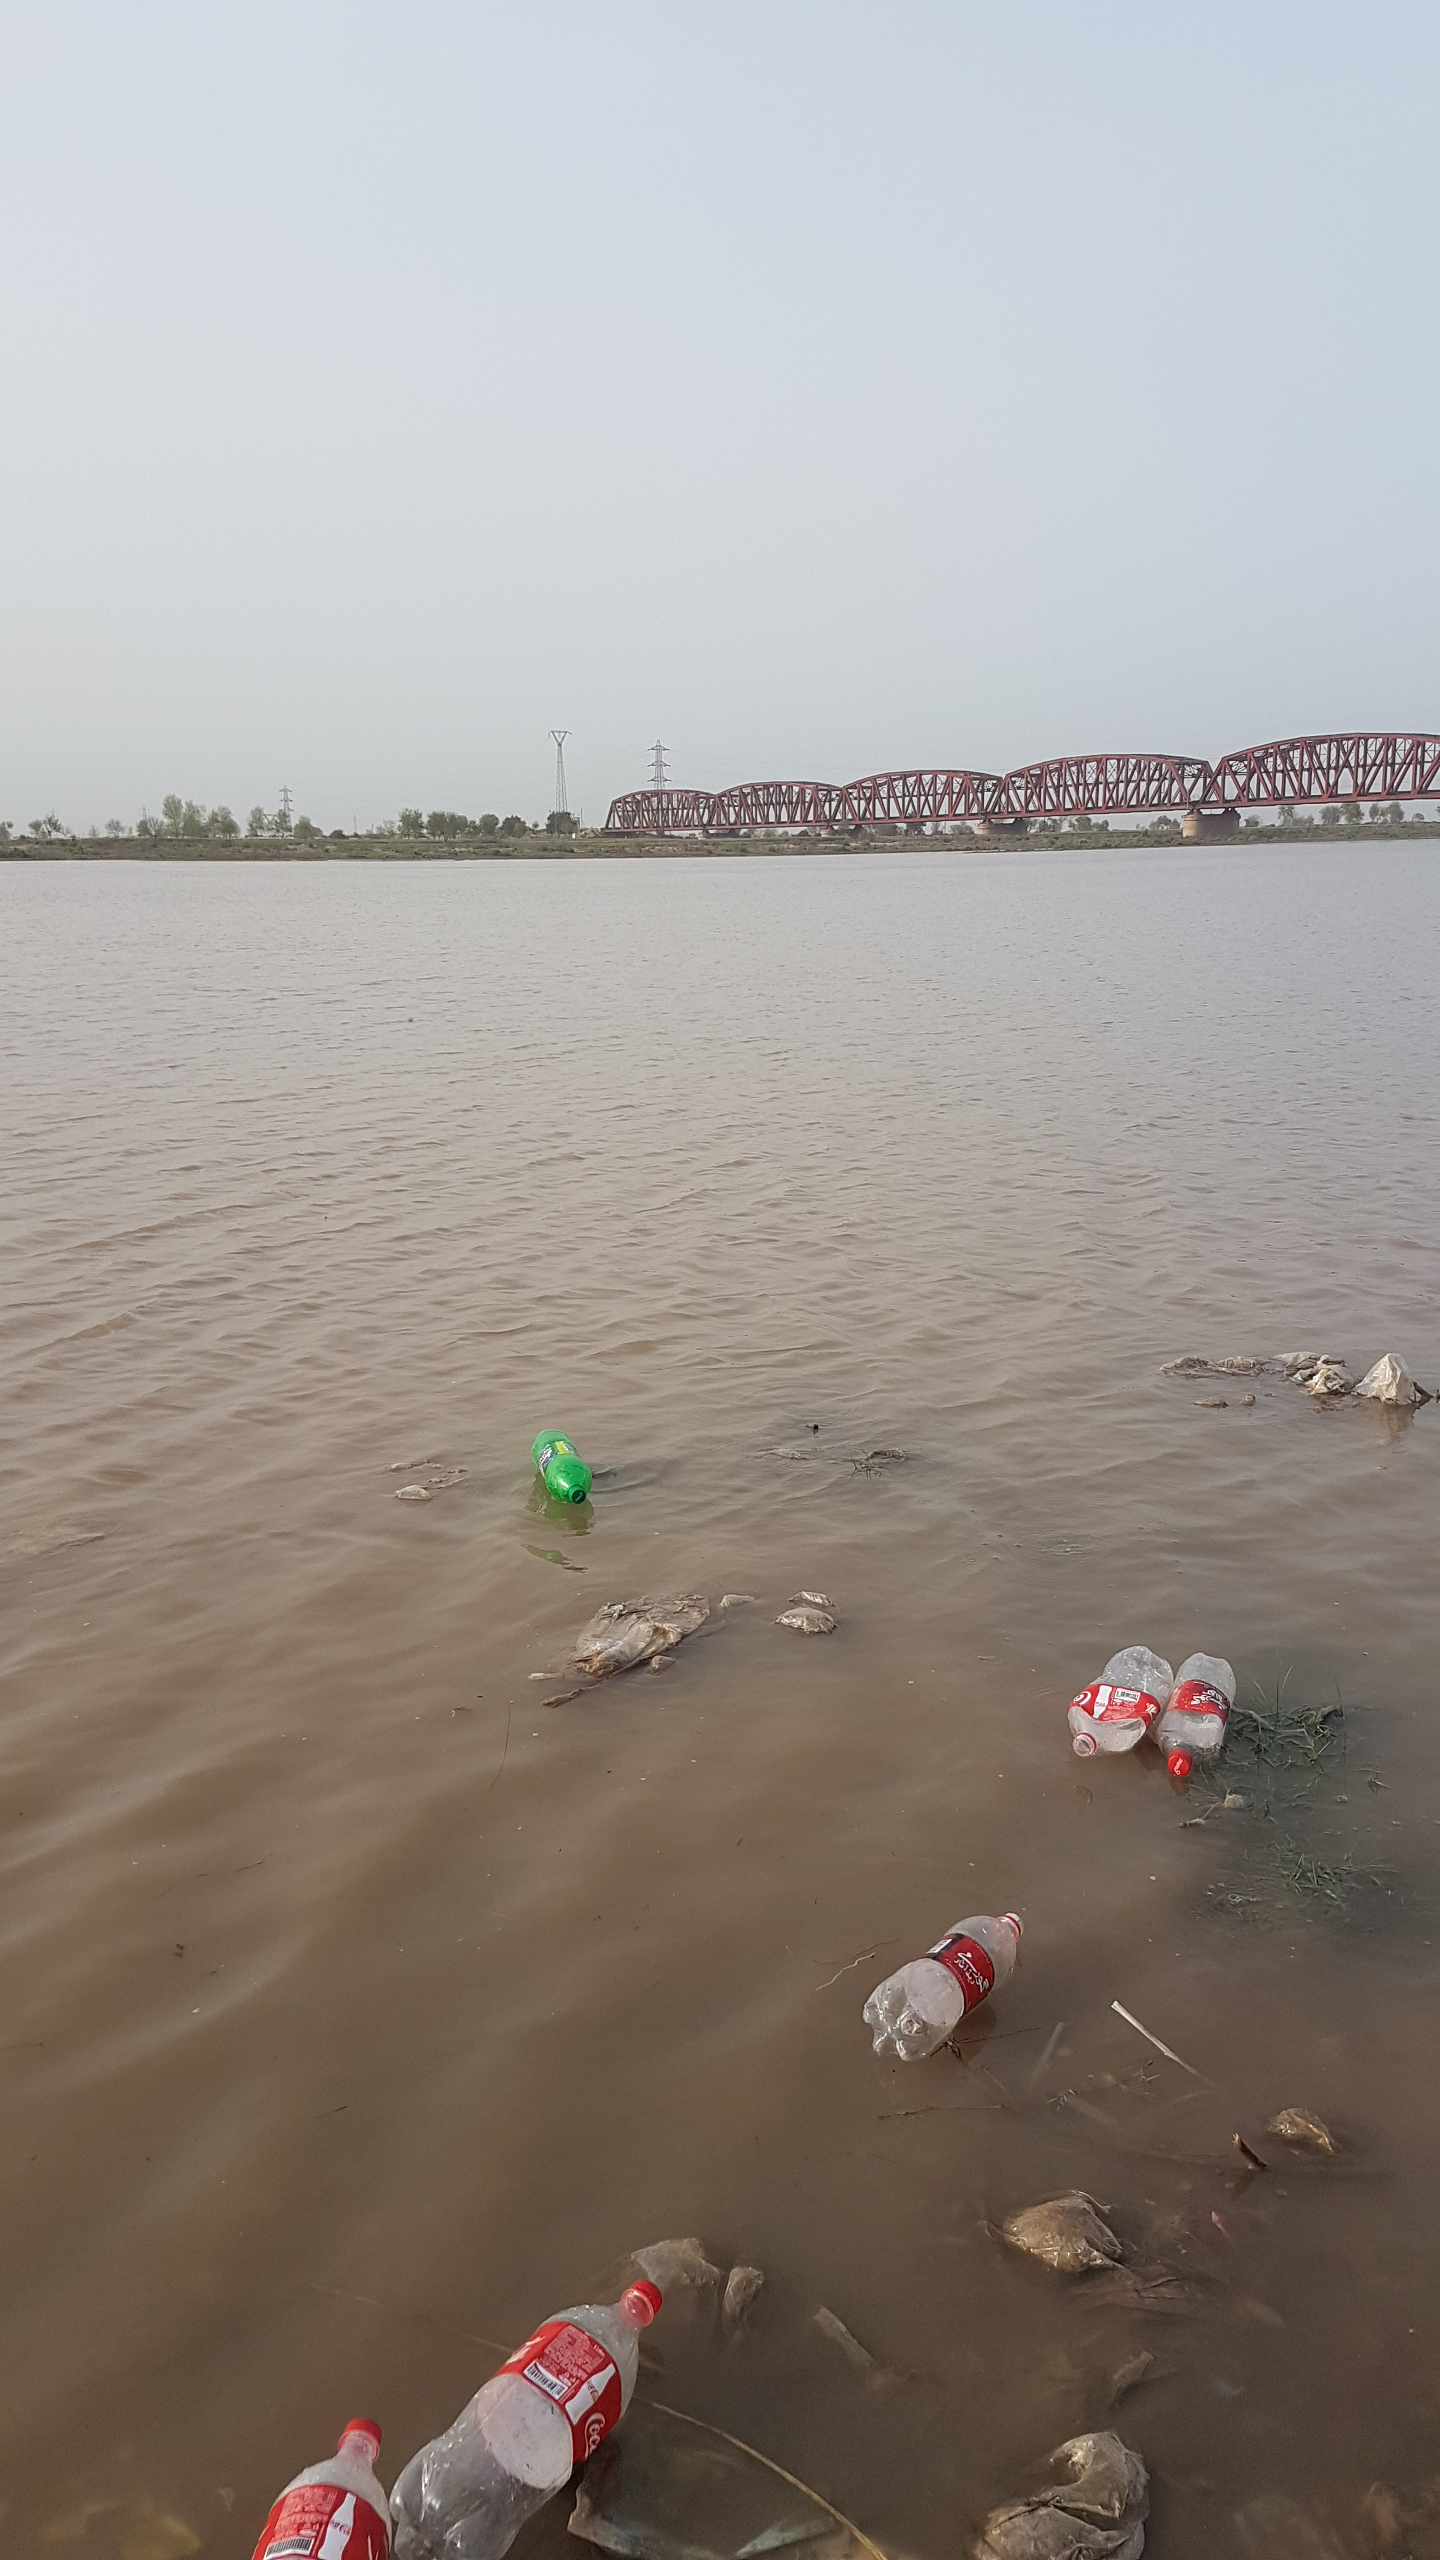Plastic Bottle: (389, 2279, 663, 2560), (863, 1911, 1023, 2062), (250, 2416, 392, 2560), (1067, 1646, 1175, 1756), (1153, 1651, 1236, 1778), (533, 1429, 593, 1503)
